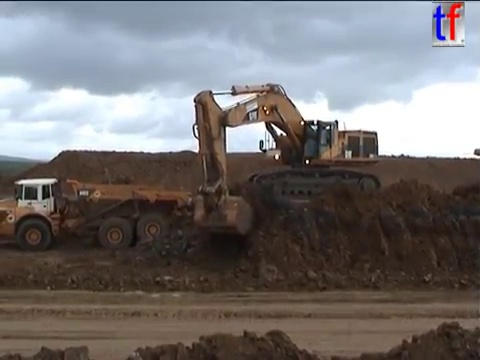excavator: (190, 80, 385, 238)
truck: (1, 175, 201, 253), (472, 147, 480, 158)
